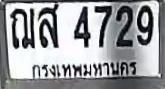2: (115, 5, 133, 47)
4: (73, 5, 91, 48)
7: (94, 5, 111, 47)
9: (136, 4, 153, 47)
A12: (9, 7, 36, 49)
A40: (37, 3, 60, 49)
BKK: (27, 58, 144, 83)
